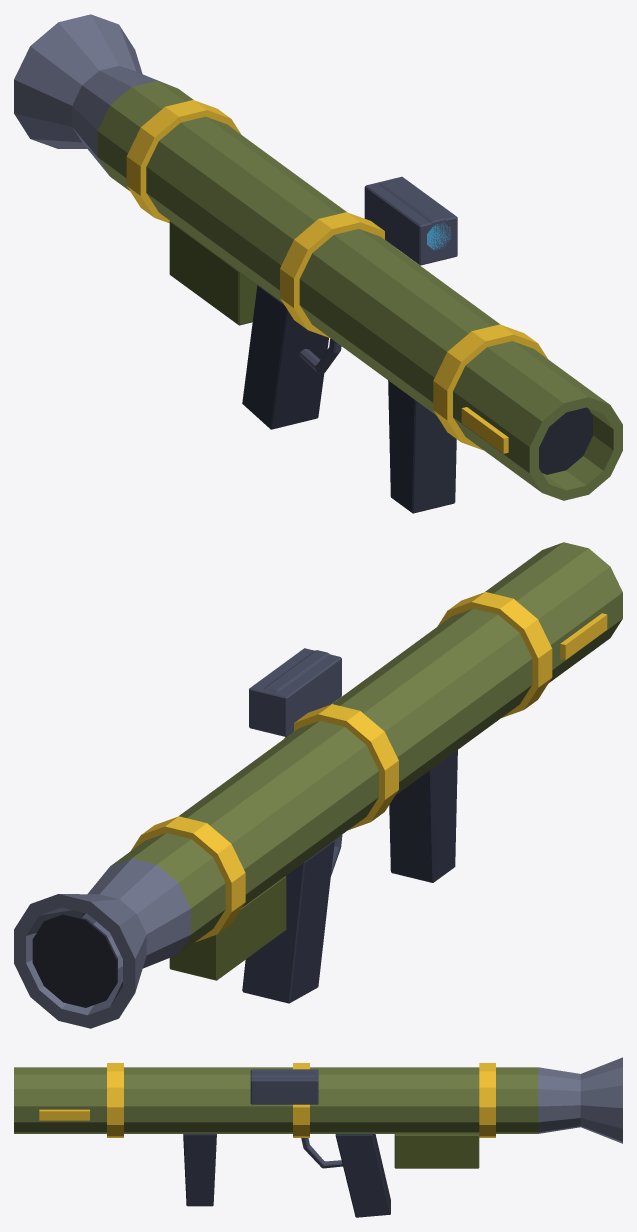
File: myw_recoillessrifle.glb
3 views of the same model, one above another, from view 1: azimuth 30°, elevation 25°; view 2: azimuth 150°, elevation 25°; view 3: azimuth 270°, elevation 25° (orthographic). The views are drawn at different scales.
Visible parts, largest first — view 1: Tube, Grips, Venturi; view 2: Tube, Grips, Venturi; view 3: Tube, Grips, Venturi.
Part boxes in pixels (x1,y1,x2,y2): Tube: (97, 81, 622, 500); Grips: (169, 176, 457, 513); Venturi: (14, 14, 172, 175); Tube: (111, 542, 622, 953); Grips: (169, 648, 457, 1003); Venturi: (14, 858, 190, 1028); Tube: (14, 1063, 538, 1137); Grips: (183, 1069, 479, 1217); Venturi: (538, 1057, 622, 1143).
Size of the model in its own units: 0.5711 by 1 by 3.6.
